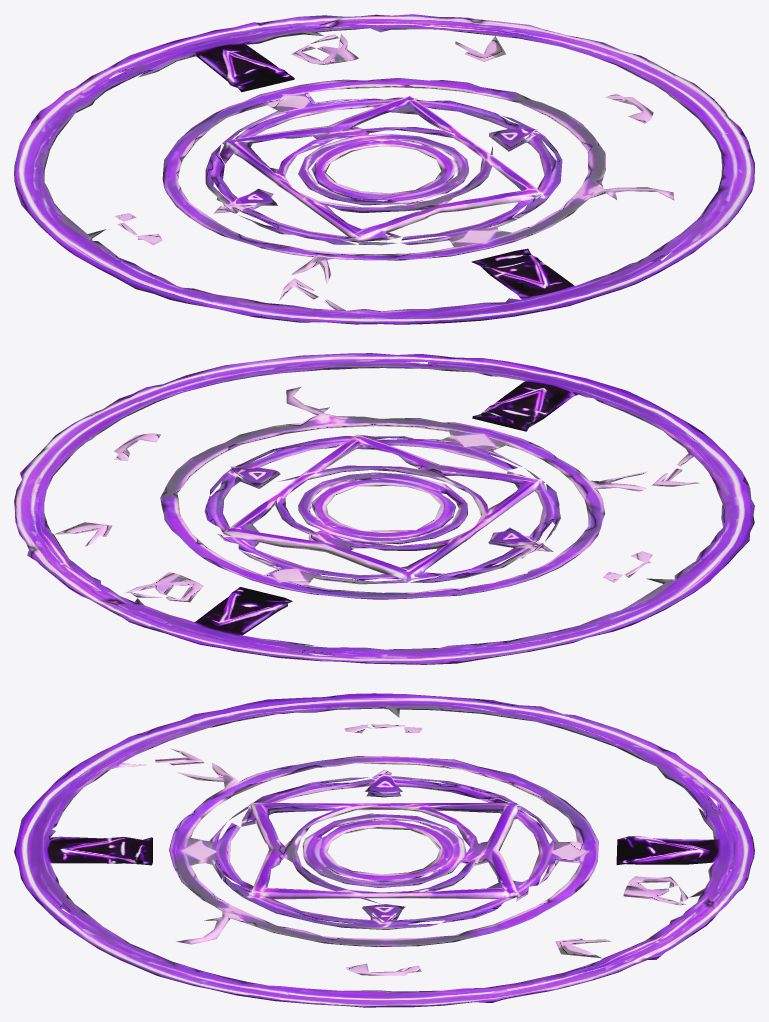
Rendered from arcane+summoning+circle+3d+model.obj.
3 renders of one model, top to bottom at view 1: azimuth 30°, elevation 25°; view 2: azimuth 150°, elevation 25°; view 3: azimuth 270°, elevation 25°, orthographic.
Visible parts, largest first — view 1: tripo_node_1819ce62-dfc6-4733-8975-339a3bd59398; view 2: tripo_node_1819ce62-dfc6-4733-8975-339a3bd59398; view 3: tripo_node_1819ce62-dfc6-4733-8975-339a3bd59398.
Boxes of the visible parts, box(x1,y1,x2,y2) form: tripo_node_1819ce62-dfc6-4733-8975-339a3bd59398: box(14, 14, 754, 324); tripo_node_1819ce62-dfc6-4733-8975-339a3bd59398: box(14, 353, 754, 664); tripo_node_1819ce62-dfc6-4733-8975-339a3bd59398: box(14, 693, 754, 1007).
Size of the model in its own units: 0.9987 by 0.0125 by 0.9987.
Materials: 1 (1 with a texture image).
